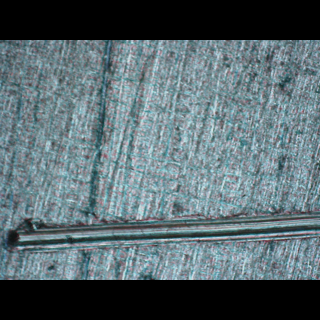d: (2, 201, 320, 258)
